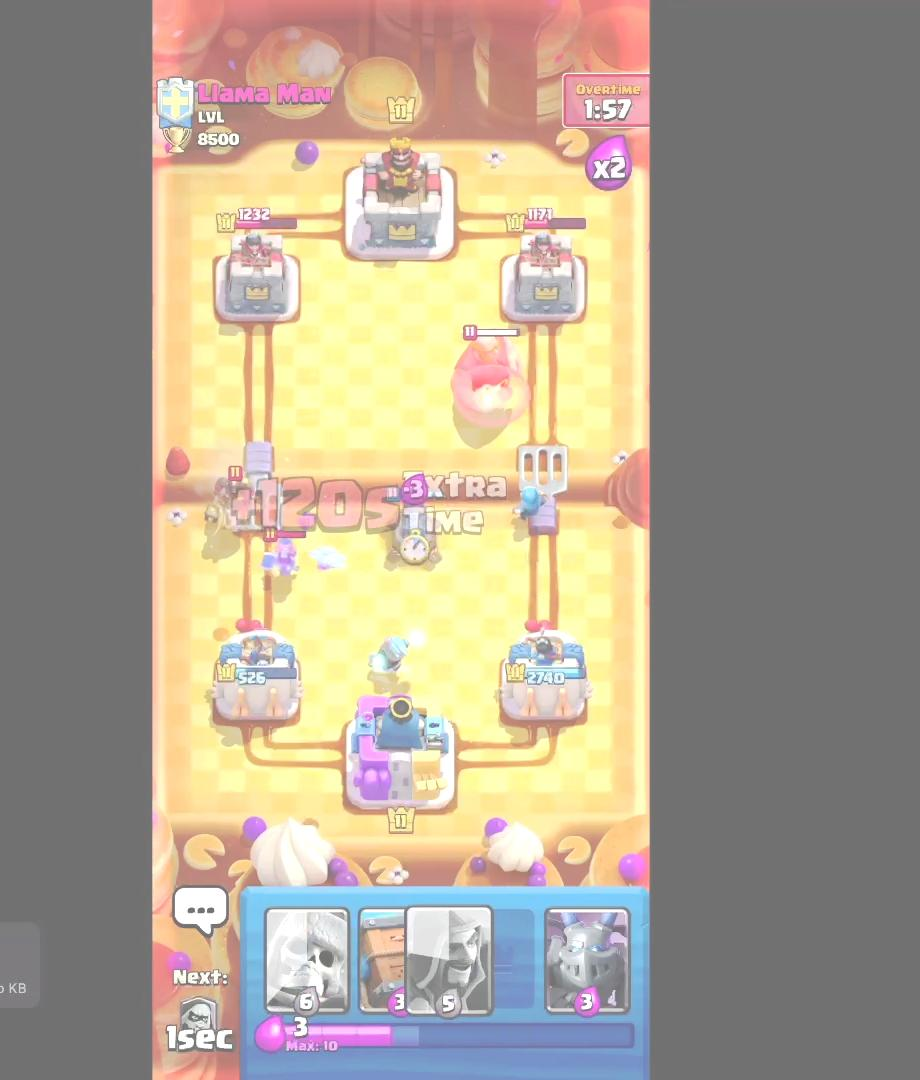Giant: (450, 322, 527, 427)
Hog Rider: (205, 461, 258, 535)
Valkyrie: (260, 524, 307, 590)
